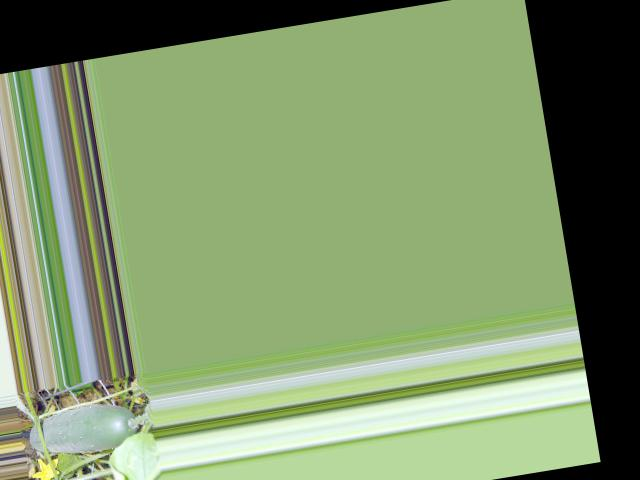cucumber: (26, 397, 141, 461)
